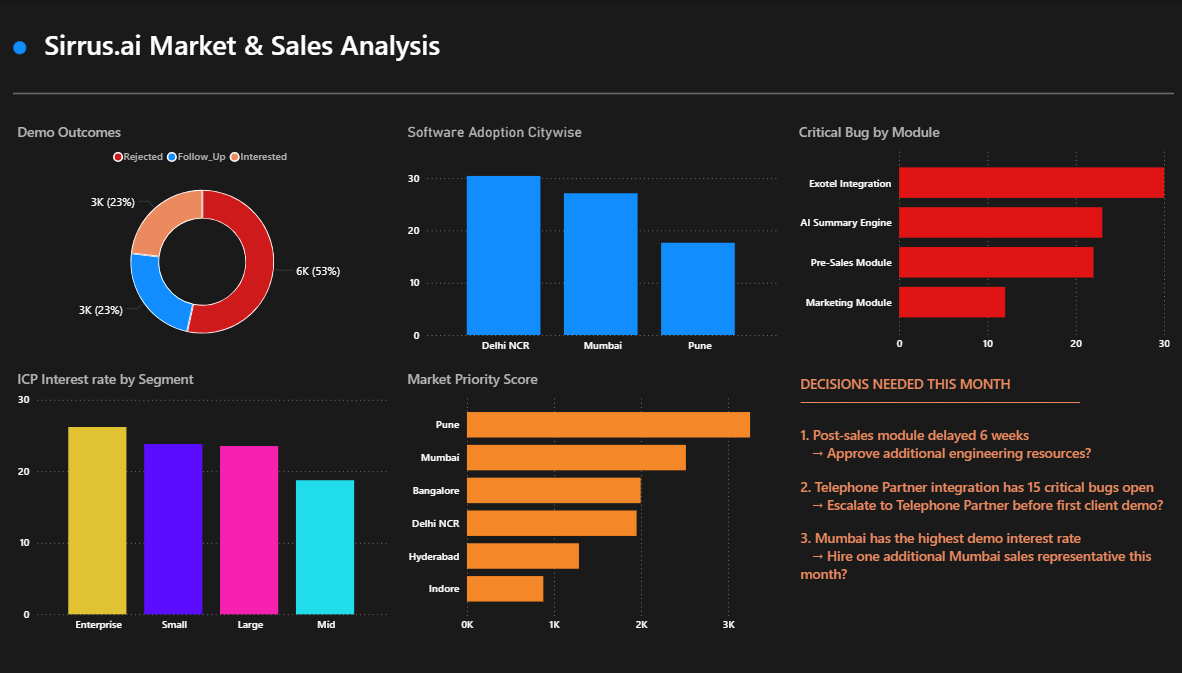

The dashboard page shown, as its layout file describes it:
{"tool":"powerbi","page":{"name":"Page 1","canvas":[1400,800],"ordinal":0},"visuals":[{"type":"donutChart","title":"Demo Outcomes","fields":{"Category":["demo_tracker.outcome"],"Y":["Sum(demo_tracker.demo_id)"]},"box":[0,146.3,446.2,278.9],"z":0},{"type":"clusteredColumnChart","title":"Software Adoption Citywise","fields":{"Category":["demo_tracker.city"],"Y":["demo_tracker.Interest Rate %"]},"box":[476.8,146.3,446.2,278.9],"z":1000},{"type":"clusteredBarChart","title":"Critical Bug by Module","fields":{"Category":["bug_tracker.module"],"Y":["CountNonNull(bug_tracker.bug_id)"]},"box":[938.5,145.5,447.1,279.2],"z":2000},{"type":"clusteredColumnChart","title":"ICP Interest rate by Segment","fields":{"Category":["demo_tracker.dev_segment"],"Y":["demo_tracker.Interest Rate %"]},"box":[0,435.4,445.4,318.1],"z":3000},{"type":"clusteredBarChart","title":"Market Priority Score","fields":{"Category":["market_data.city"],"Y":["demo_tracker.Priority Score"]},"box":[476.8,435.9,446.2,318.4],"z":4000},{"type":"textbox","box":[941,436.4,446,318],"z":5000},{"type":"shape","box":[17.7,90.7,1367.9,42.4],"z":6000},{"type":"shape","box":[17.7,49.5,15.9,15.9],"z":7000},{"type":"textbox","box":[49.5,26.5,500.2,63.6],"z":8000}]}

Visuals, with their boxes in screenshot pixels (x1, y1, x2, y2), scaled from the page's 1400x800 canvas onto the 1182x673 screenshot:
"Demo Outcomes" donutChart: rect(0, 123, 377, 358)
"Software Adoption Citywise" clusteredColumnChart: rect(403, 123, 779, 358)
"Critical Bug by Module" clusteredBarChart: rect(792, 122, 1170, 357)
"ICP Interest rate by Segment" clusteredColumnChart: rect(0, 366, 376, 634)
"Market Priority Score" clusteredBarChart: rect(403, 367, 779, 635)
textbox: rect(794, 367, 1171, 635)
shape: rect(15, 76, 1170, 112)
shape: rect(15, 42, 28, 55)
textbox: rect(42, 22, 464, 76)
